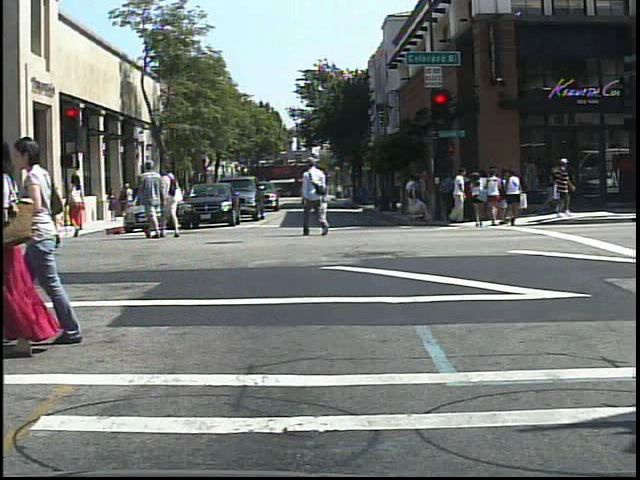person: (13, 130, 97, 349), (0, 129, 57, 364), (300, 152, 335, 242), (138, 156, 172, 243), (64, 168, 94, 242), (546, 155, 579, 219), (33, 167, 60, 244), (165, 160, 185, 239), (469, 172, 488, 231)
